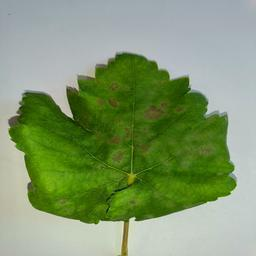Powdery-Mildew: (106, 129, 150, 166), (37, 155, 67, 190), (98, 81, 124, 118), (186, 144, 220, 168), (58, 197, 75, 213), (148, 103, 164, 119), (119, 192, 135, 208)
